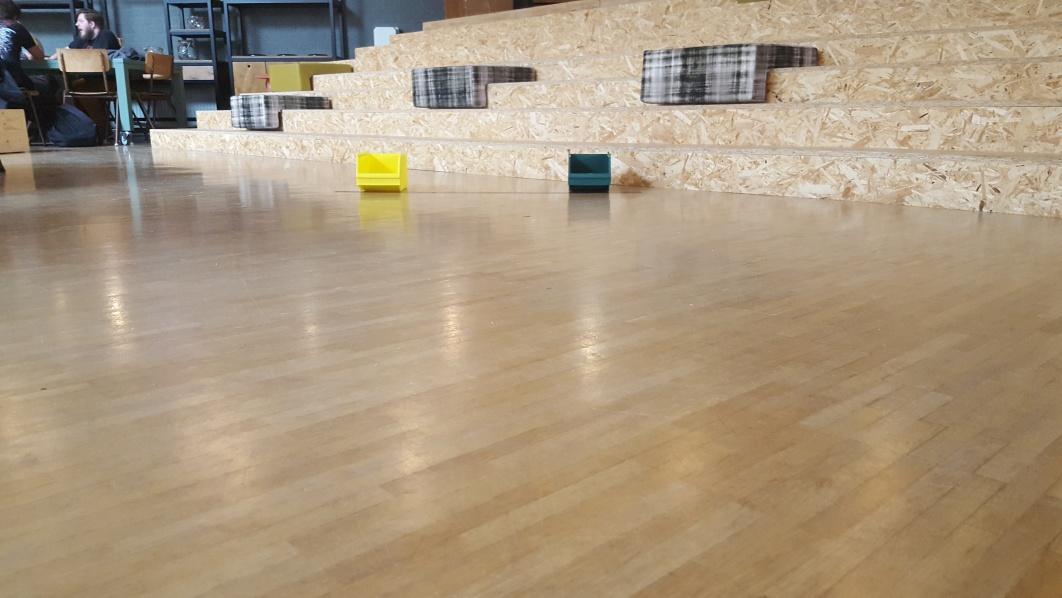tray: (355, 147, 410, 193), (562, 150, 620, 192)
